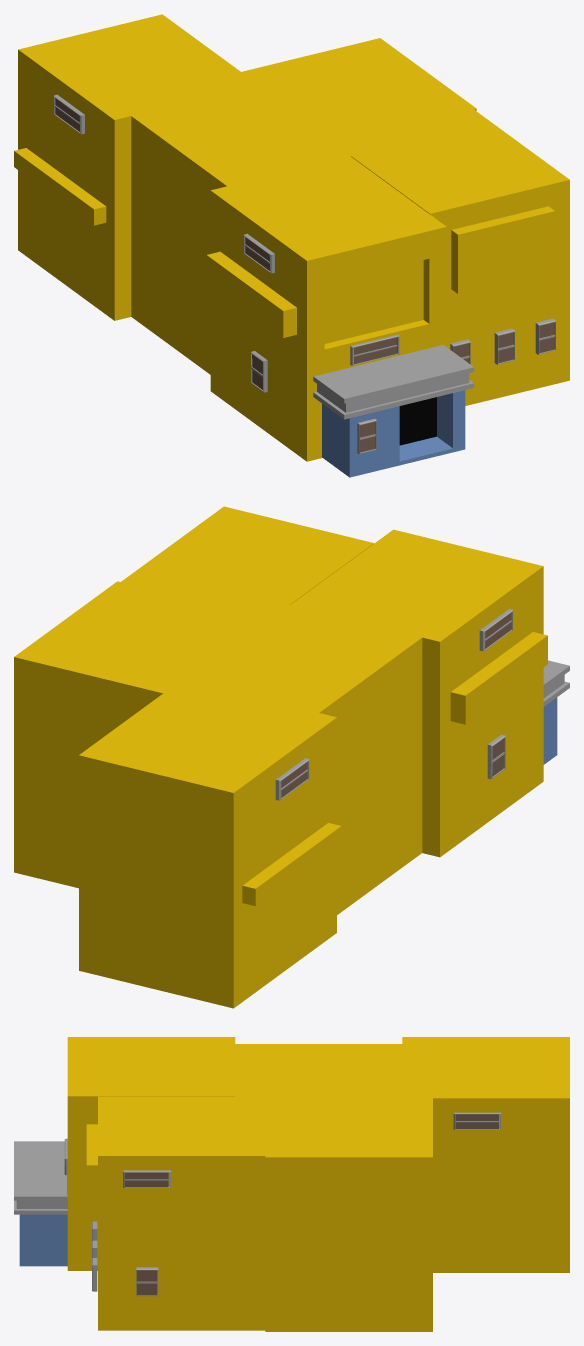
File: Store.fbx
3 renders of one model, top to bottom at view 1: azimuth 30°, elevation 25°; view 2: azimuth 150°, elevation 25°; view 3: azimuth 270°, elevation 25°, orthographic. The views are drawn at different scales.
Parts seen in each view (by area): view 1: pCube276, pCube281, pCube277, pCube280, pCube282, pCube279, pCube278, polySurface740, polySurface742, polySurface741, polySurface738, polySurface737 (+2 smaller); view 2: pCube281, pCube276, pCube282, pCube280, pCube277, pCube278, pCube279, polySurface742, polySurface741, polySurface743; view 3: pCube282, pCube277, pCube281, pCube276, pCube280, pCube278, pCube279, polySurface745, polySurface746, polySurface744.
Boxes of the visible parts, bbox=[...] form: pCube276: bbox=[206, 156, 446, 461]; pCube281: bbox=[14, 14, 257, 320]; pCube277: bbox=[334, 109, 569, 405]; pCube280: bbox=[131, 84, 351, 374]; pCube282: bbox=[240, 38, 476, 142]; pCube279: bbox=[322, 390, 465, 477]; pCube278: bbox=[313, 344, 474, 419]; polySurface740: bbox=[350, 334, 399, 365]; polySurface742: bbox=[53, 94, 84, 134]; polySurface741: bbox=[243, 233, 274, 273]; polySurface738: bbox=[535, 318, 555, 354]; polySurface737: bbox=[494, 328, 514, 364]; pCube281: bbox=[79, 680, 341, 1008]; pCube276: bbox=[290, 529, 547, 857]; pCube282: bbox=[14, 581, 266, 888]; pCube280: bbox=[183, 605, 422, 914]; pCube277: bbox=[121, 506, 373, 618]; pCube278: bbox=[543, 660, 569, 706]; pCube279: bbox=[543, 697, 557, 764]; polySurface742: bbox=[275, 758, 309, 800]; polySurface741: bbox=[479, 609, 513, 651]; polySurface743: bbox=[487, 734, 505, 779]; pCube282: bbox=[265, 1098, 432, 1331]; pCube277: bbox=[86, 1096, 265, 1330]; pCube281: bbox=[402, 1037, 569, 1272]; pCube276: bbox=[67, 1037, 235, 1270]; pCube280: bbox=[235, 1044, 402, 1098]; pCube278: bbox=[14, 1141, 67, 1214]; pCube279: bbox=[19, 1175, 67, 1266]; polySurface745: bbox=[123, 1170, 171, 1187]; polySurface746: bbox=[453, 1112, 501, 1129]; polySurface744: bbox=[136, 1267, 158, 1296].
Bounding box in the file's own units: 71.38 × 45.86 × 132.
